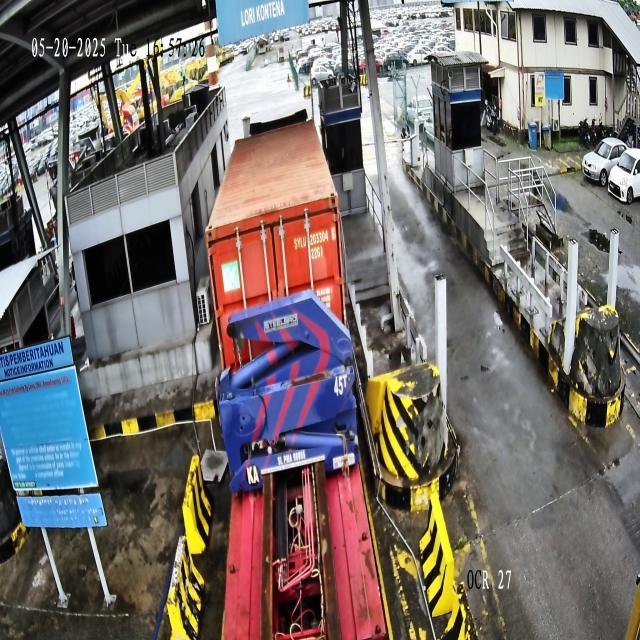ISO: (310, 246, 322, 260)
container_number: (294, 227, 336, 250)
